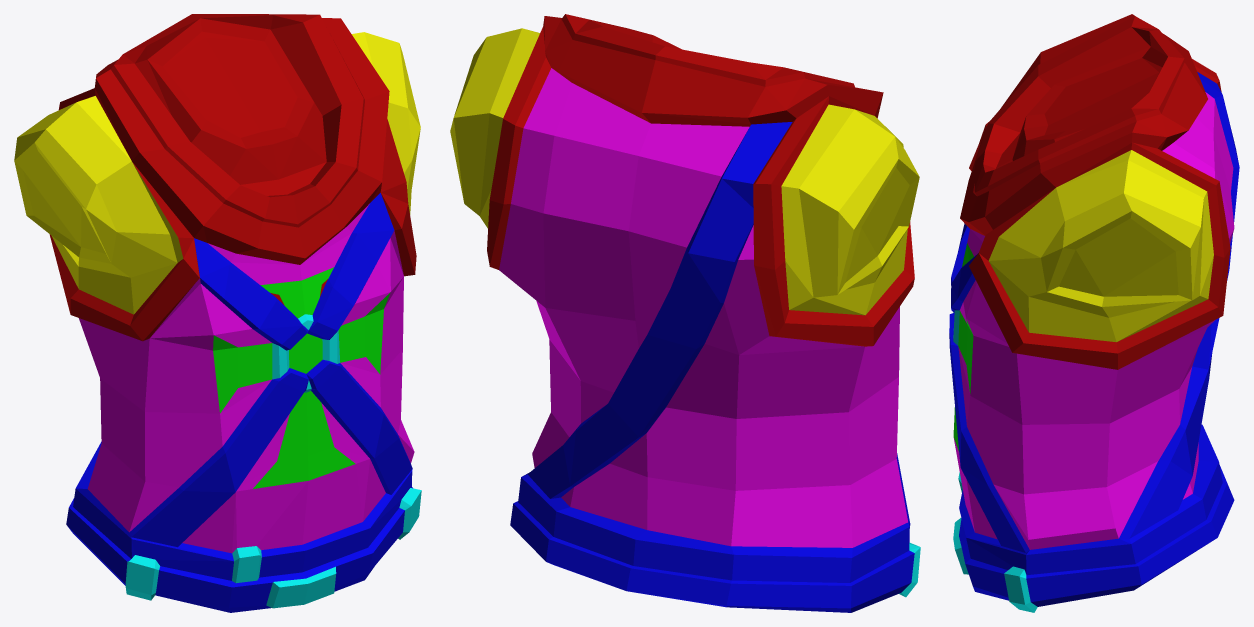
The model's file is Chr_Torso_Male_Static_10.fbx.
The picture shows the model from 3 angles, left to right: view 1: azimuth 30°, elevation 25°; view 2: azimuth 150°, elevation 25°; view 3: azimuth 270°, elevation 25°; orthographic projection. The views are drawn at different scales.
Parts seen in each view (by area): view 1: Chr_Torso_Male_10; view 2: Chr_Torso_Male_10; view 3: Chr_Torso_Male_10.
Part boxes in pixels (x1=…): Chr_Torso_Male_10: x1=14, y1=14, x2=421, y2=612; Chr_Torso_Male_10: x1=450, y1=14, x2=920, y2=612; Chr_Torso_Male_10: x1=949, y1=14, x2=1239, y2=612.
Bounding box in the file's own units: 50.2 × 66.84 × 34.59.
